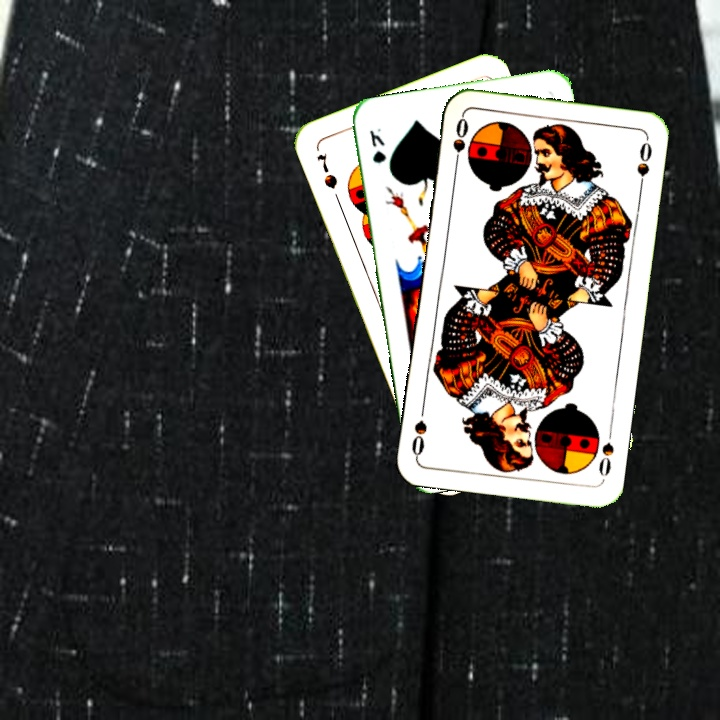GK: (365, 124, 389, 166)
S7: (312, 149, 340, 192)
SO: (448, 113, 471, 172), (594, 424, 617, 483)
